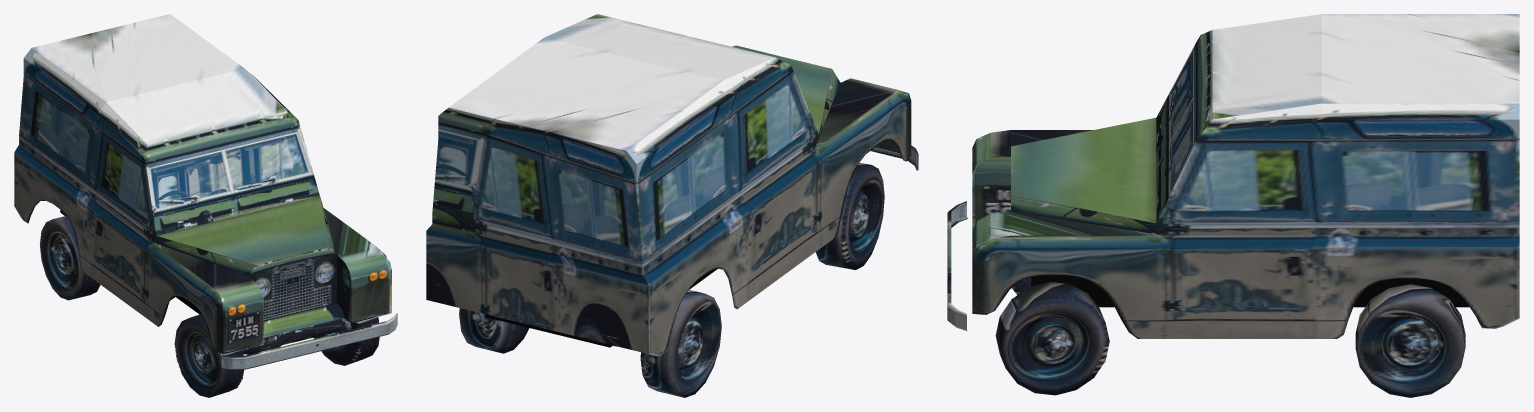
The model's file is misway-defender-1966-full.glb.
The picture shows the model from 3 angles, left to right: view 1: azimuth 30°, elevation 25°; view 2: azimuth 150°, elevation 25°; view 3: azimuth 270°, elevation 25°; orthographic projection. The views are drawn at different scales.
Visible parts, largest first — view 1: Cube.028, Cube.029, Cube.031, Cube.030, Plane.009, Plane.008, Cube.032, Plane.010, Plane.007; view 2: Cube.028, Cube.029, Plane.008, Plane.009, Cube.031, Cube.020; view 3: Cube.029, Cube.028, Cube.031, Plane.008, Plane.010, Cube.020, Cube.032.
Boxes of the visible parts, x1,y1,x2,y2 form: Cube.028: (32, 14, 391, 354); Cube.029: (14, 48, 386, 353); Cube.031: (156, 196, 330, 264); Cube.030: (249, 247, 336, 321); Plane.009: (174, 314, 243, 397); Plane.008: (39, 216, 100, 300); Cube.032: (221, 313, 397, 369); Plane.010: (314, 317, 379, 365); Plane.007: (243, 318, 345, 354); Cube.028: (426, 14, 899, 353); Cube.029: (432, 57, 911, 356); Plane.008: (459, 289, 721, 397); Plane.009: (815, 162, 884, 269); Cube.031: (732, 45, 831, 133); Cube.020: (485, 268, 717, 347); Cube.029: (972, 103, 1519, 338); Cube.028: (972, 14, 1519, 256); Cube.031: (1011, 118, 1156, 223); Plane.008: (1355, 284, 1465, 397); Plane.010: (995, 282, 1109, 395); Cube.020: (1031, 275, 1469, 307); Cube.032: (947, 201, 967, 331).
Size of the model in its own units: 1.02 by 1.19 by 2.16.
Materials: 2 (1 with a texture image).
